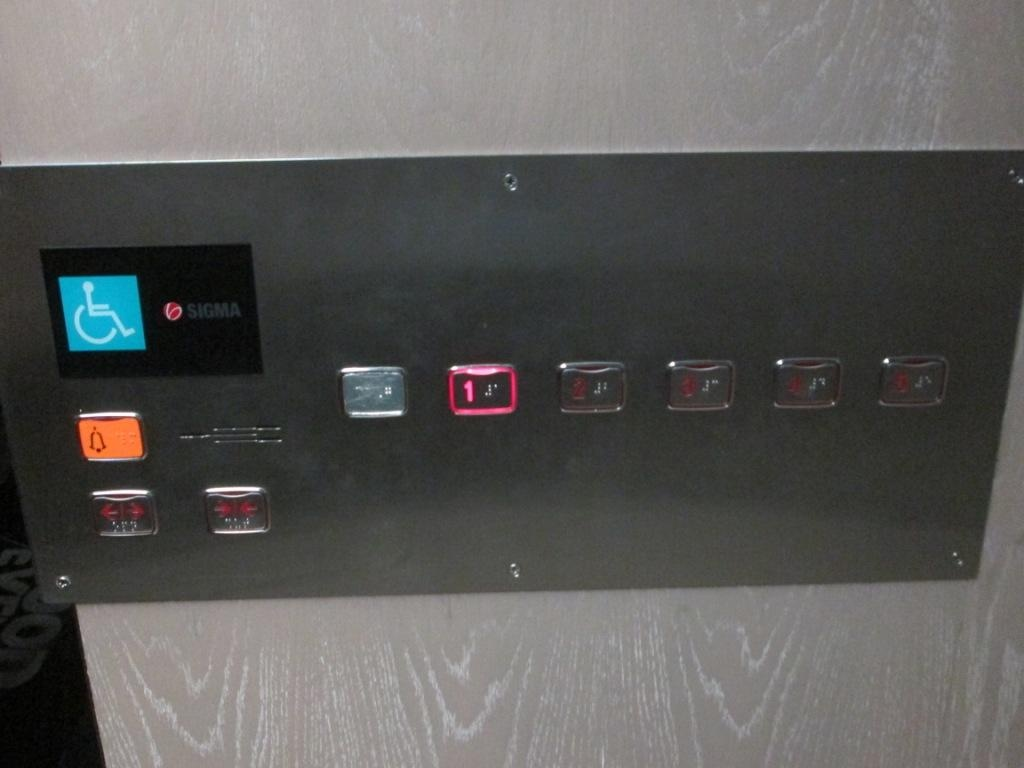1: (443, 359, 519, 419)
2: (549, 355, 630, 418)
3: (661, 355, 737, 414)
4: (767, 351, 847, 413)
5: (871, 349, 952, 411)
CH: (55, 272, 149, 354)
alarm: (69, 408, 150, 464)
blur: (332, 361, 413, 423)
close: (197, 481, 274, 541)
open: (85, 483, 163, 541)
